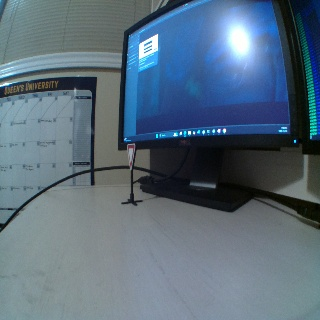sign_yield: (125, 142, 137, 168)
